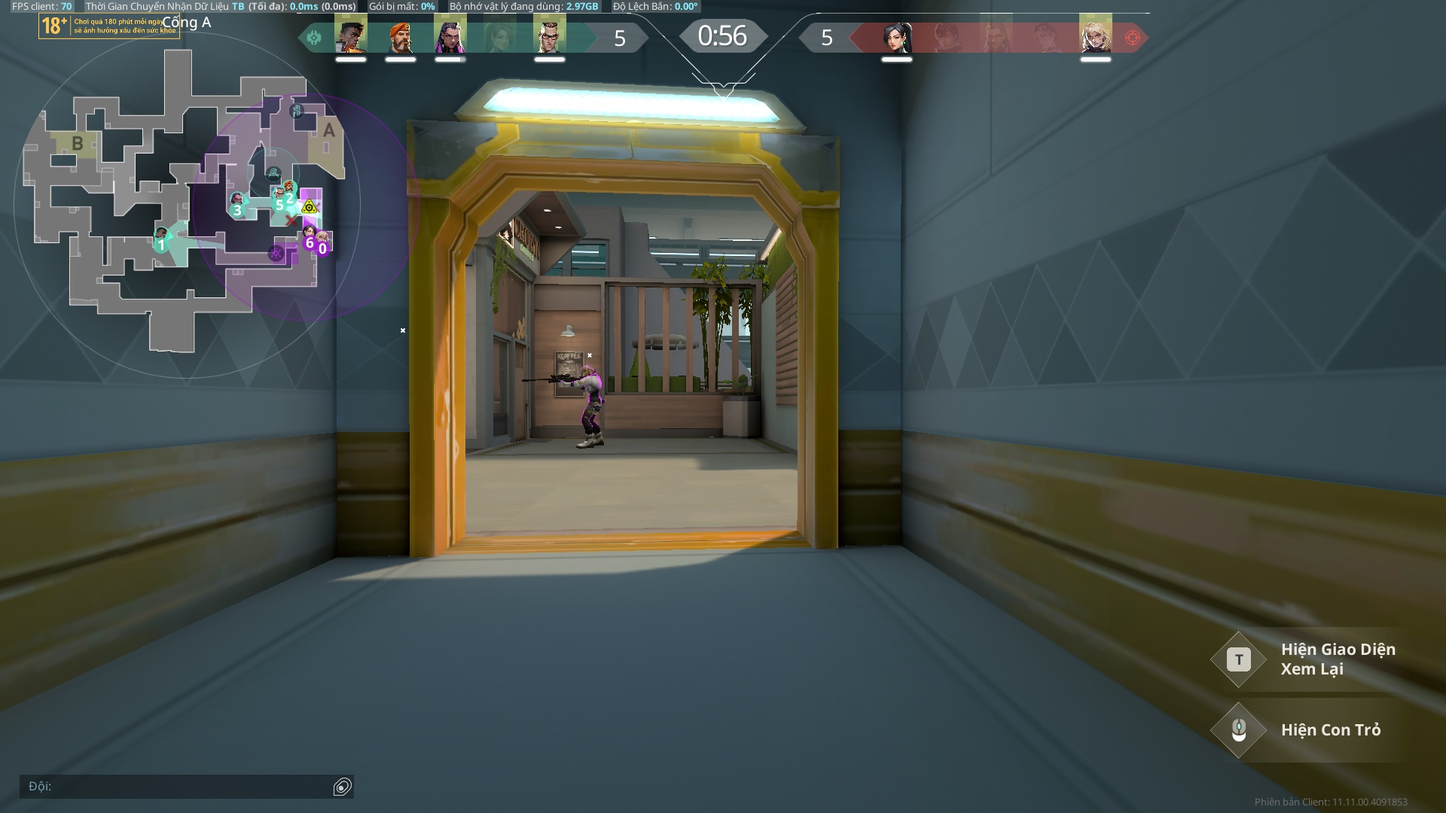body: (582, 373, 602, 397)
head: (581, 364, 595, 374)
